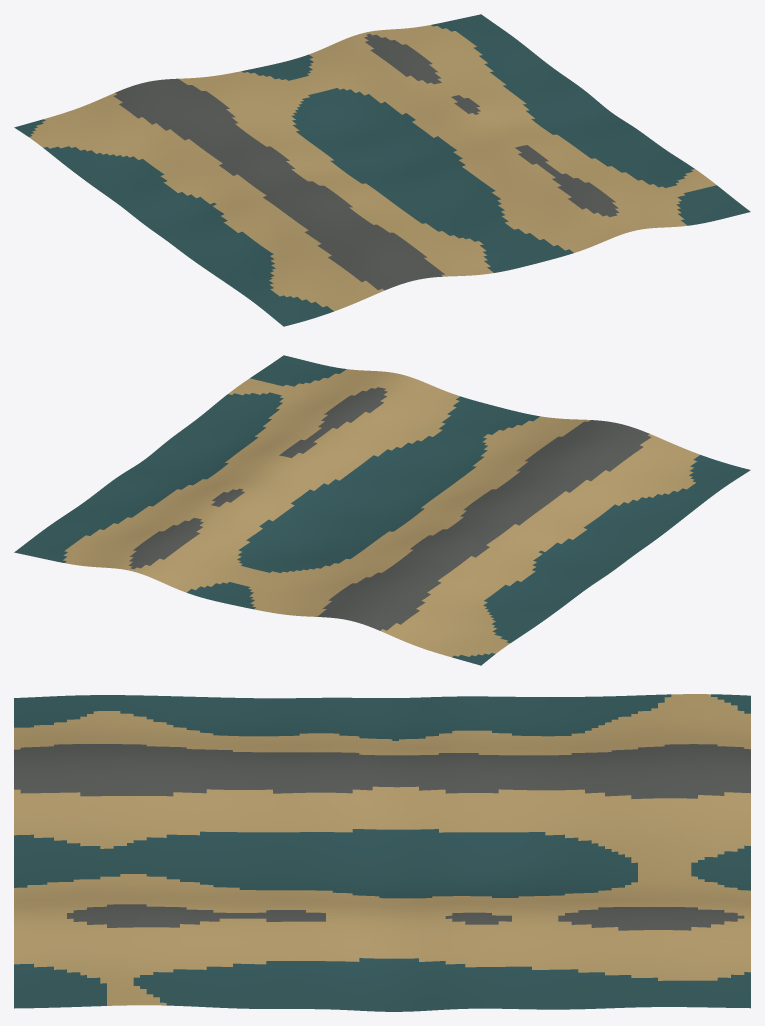
Rendered from sapphire_tidepool_rim_112.obj.
3 renders of one model, top to bottom at view 1: azimuth 30°, elevation 25°; view 2: azimuth 150°, elevation 25°; view 3: azimuth 270°, elevation 25°, orthographic. The views are drawn at different scales.
Bounding box in the file's own units: 222 × 8.56 × 222.
